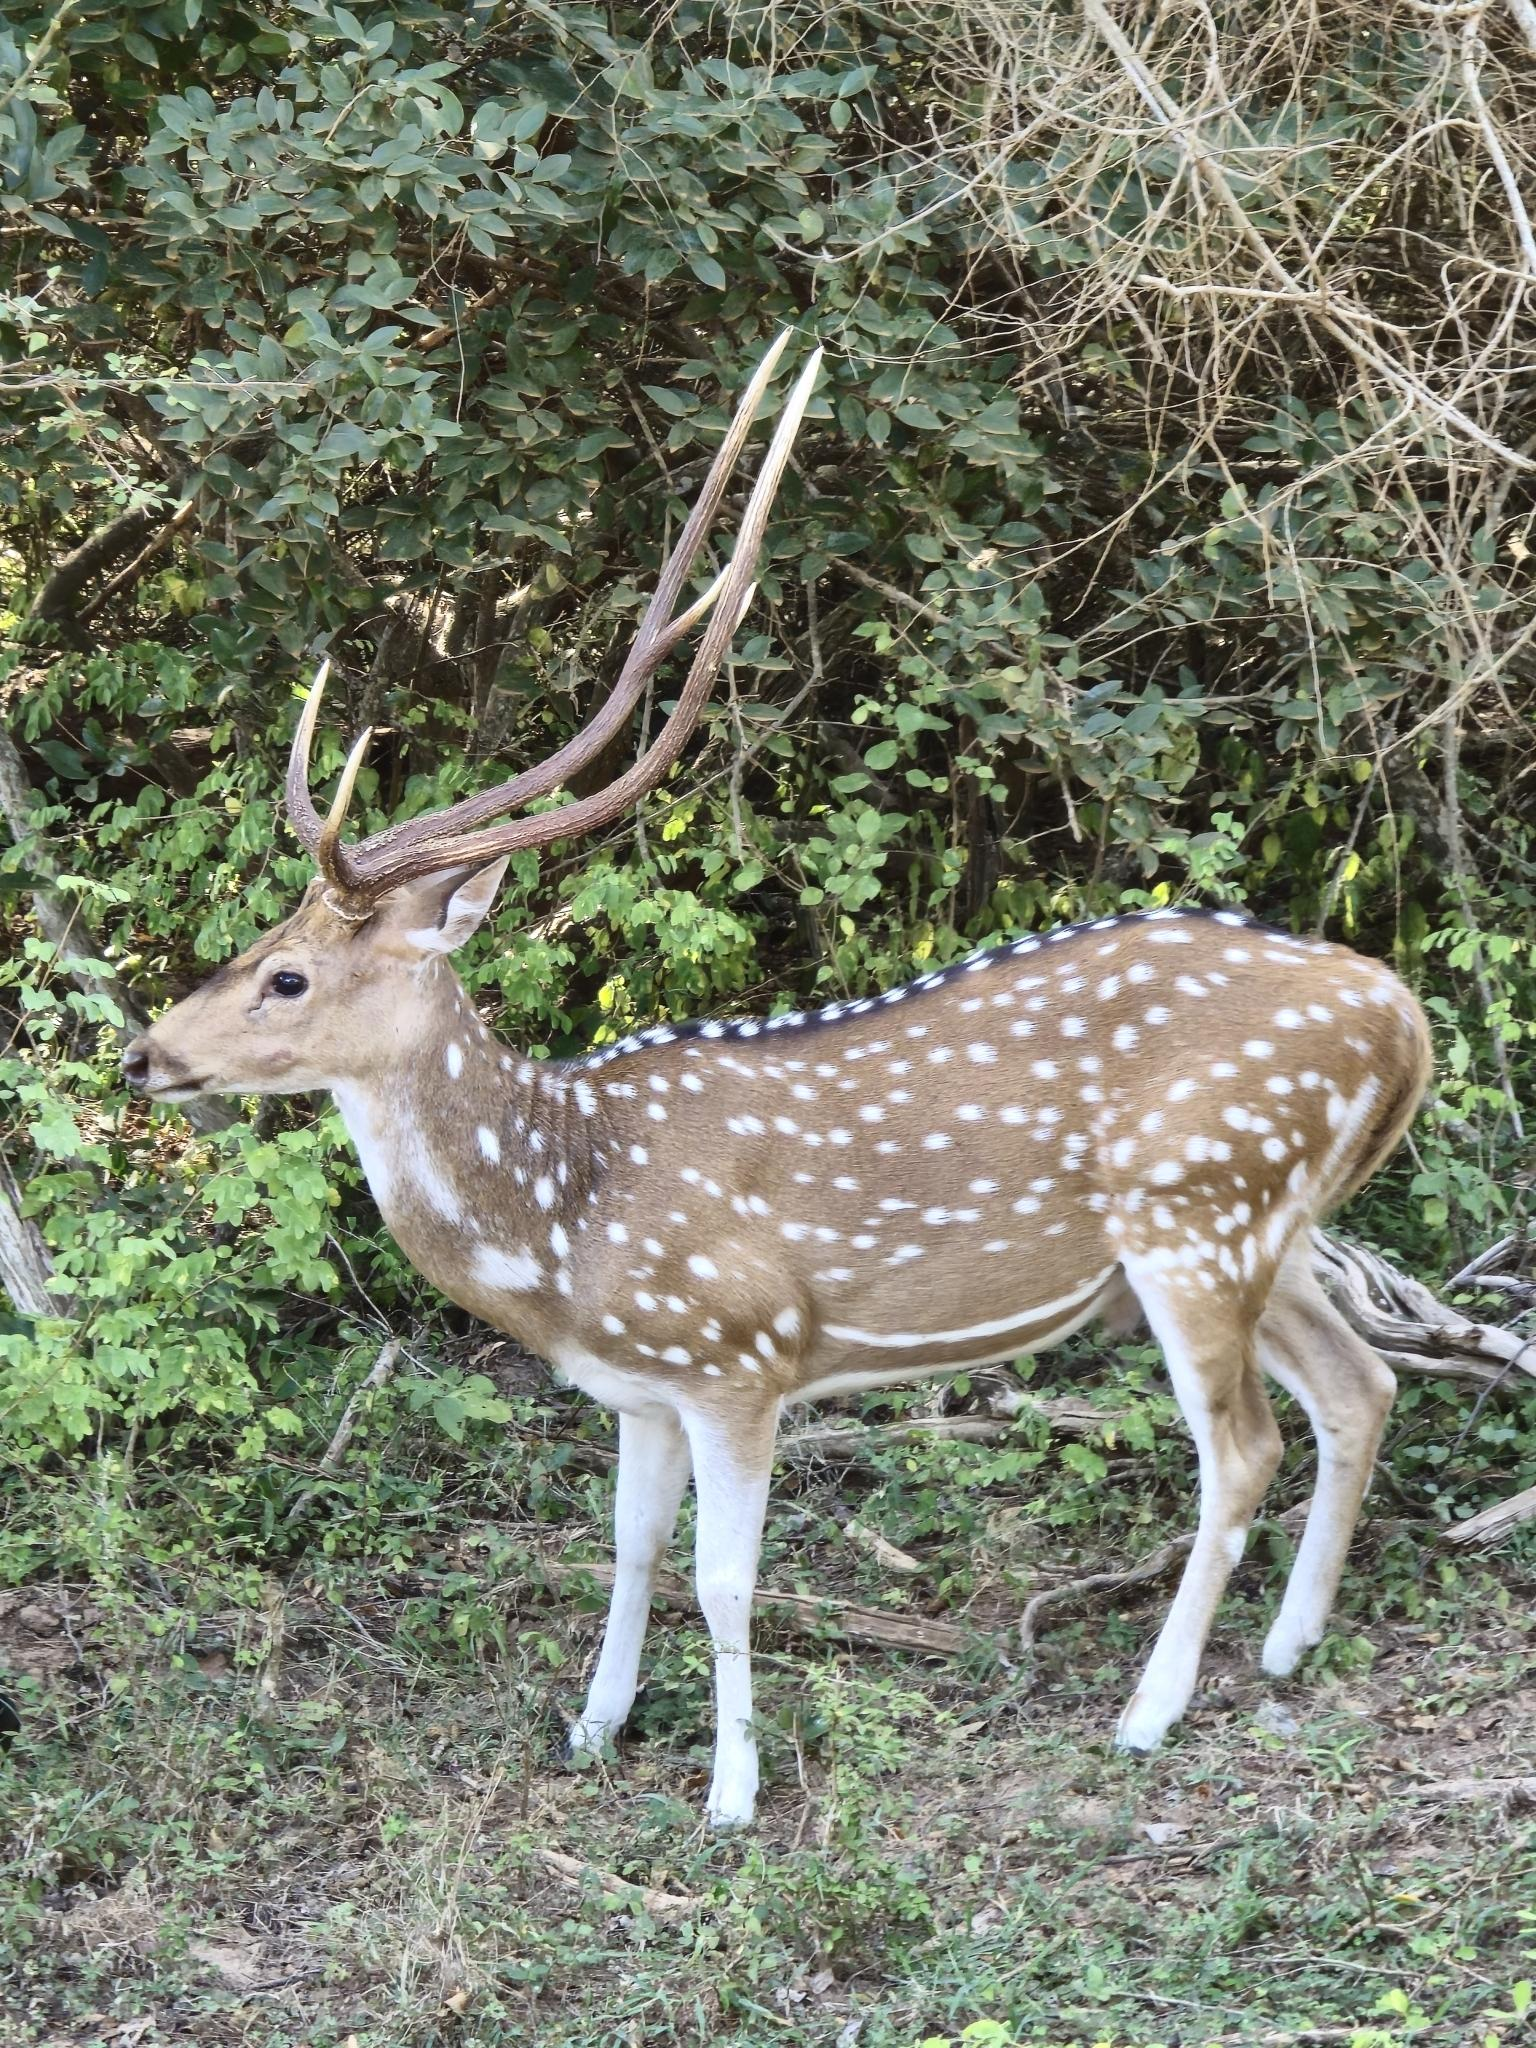Deer: (123, 332, 1430, 1825)
